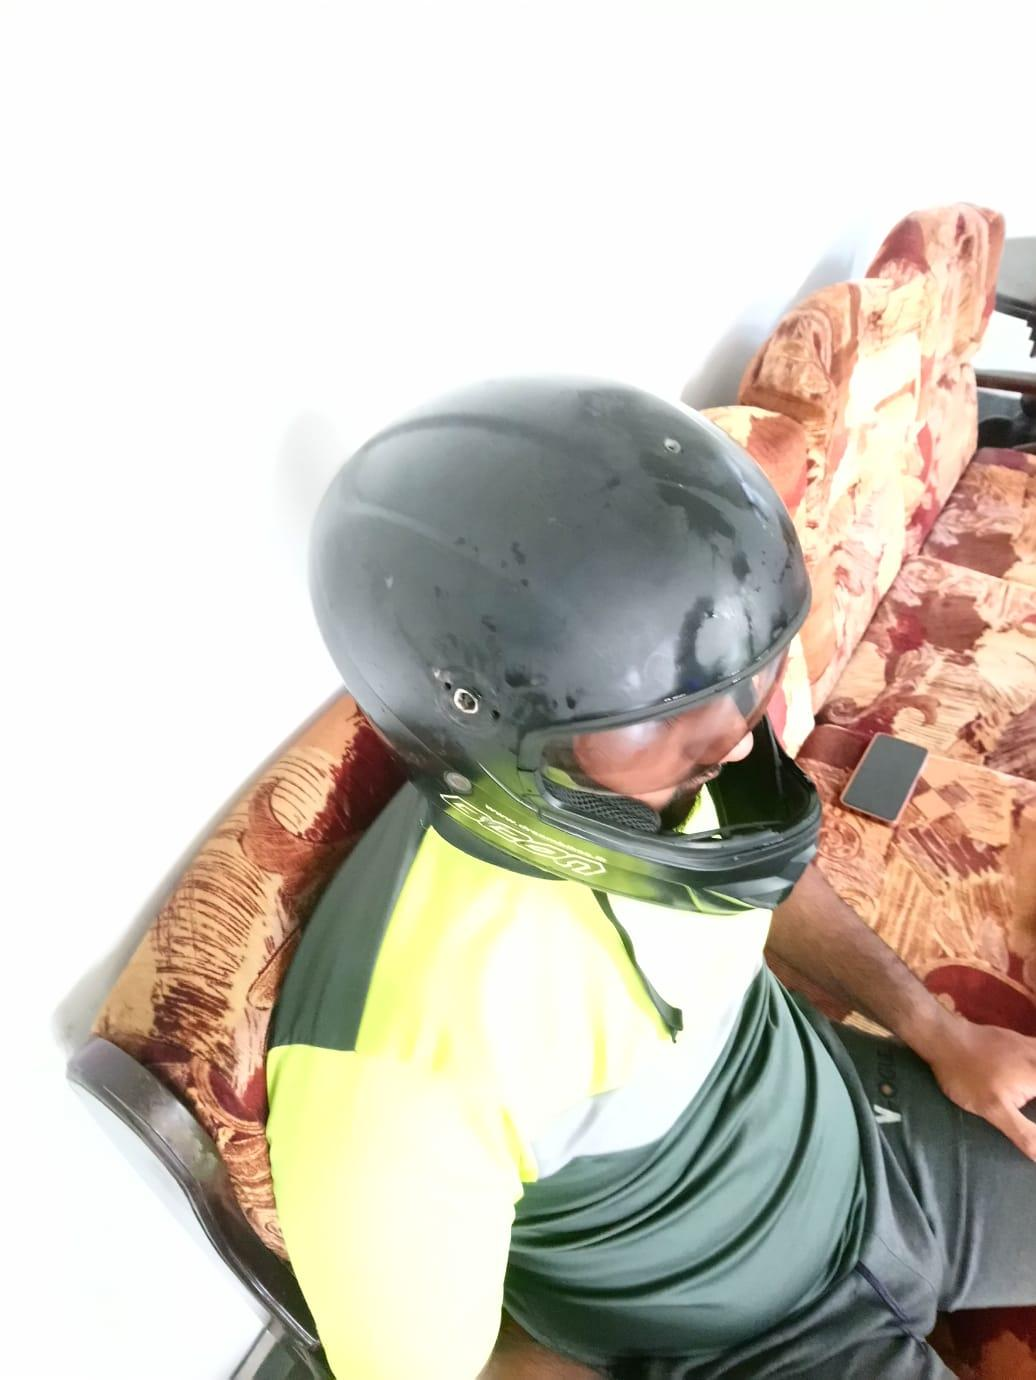helmet: (310, 368, 824, 912)
